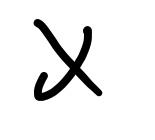mult: (34, 20, 101, 102)
